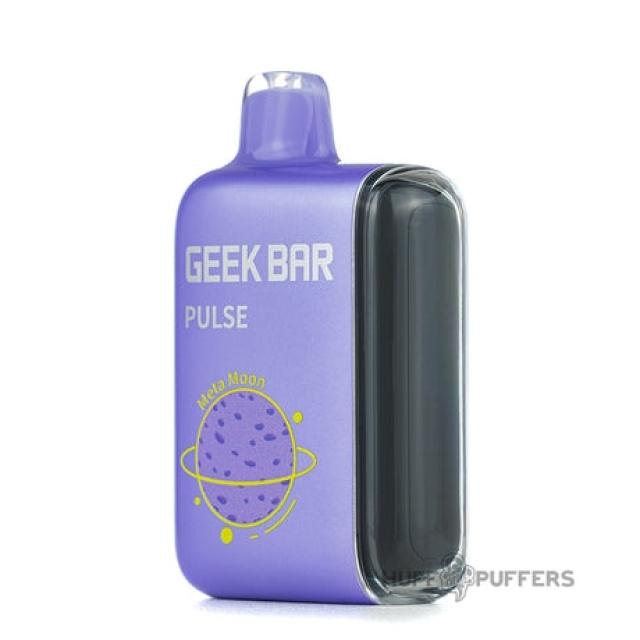Hazard: (171, 68, 469, 605)
